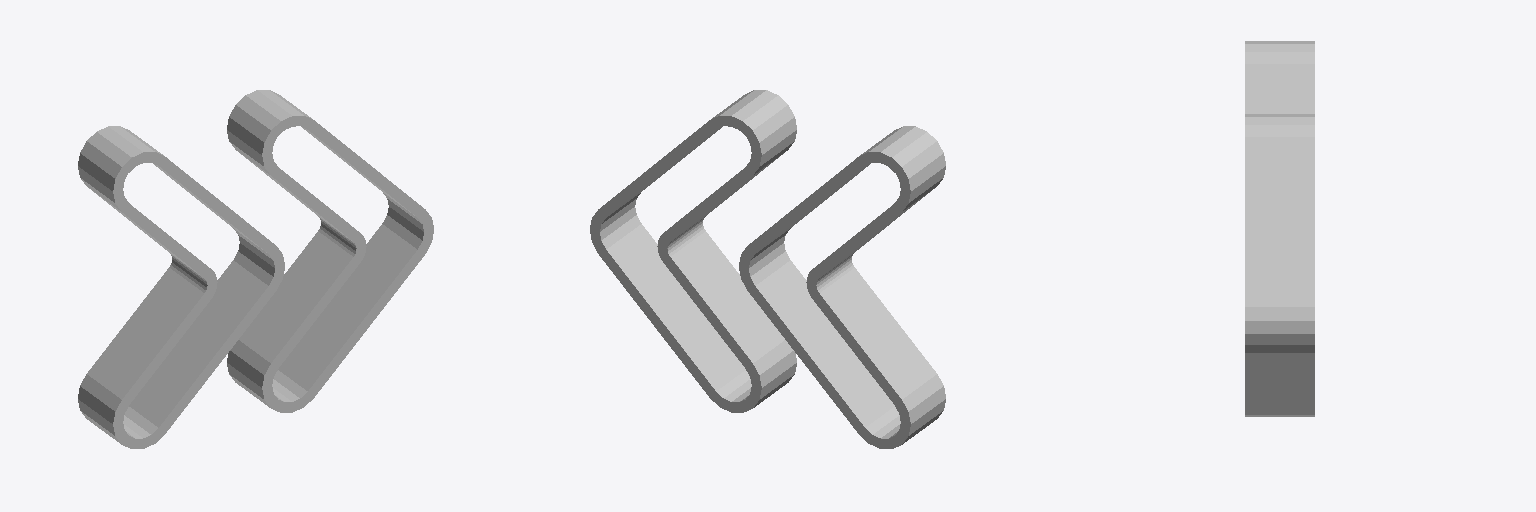
File: Arrow_21.obj
3 views of the same model, side by side, from view 1: azimuth 30°, elevation 25°; view 2: azimuth 150°, elevation 25°; view 3: azimuth 270°, elevation 25° (orthographic).
Parts seen in each view (by area): view 1: Arrow_21; view 2: Arrow_21; view 3: Arrow_21.
Part boxes in pixels (x1,y1,x2,y2): Arrow_21: (78, 90, 433, 448); Arrow_21: (590, 90, 945, 448); Arrow_21: (1245, 41, 1314, 416).
Size of the model in its own units: 4.46 by 3.93 by 0.852.